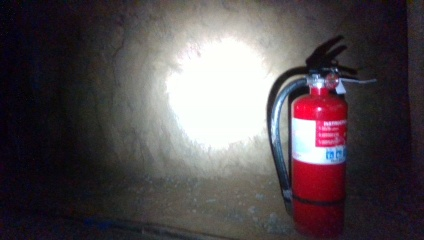fire_extinguisher: (262, 33, 360, 239)
